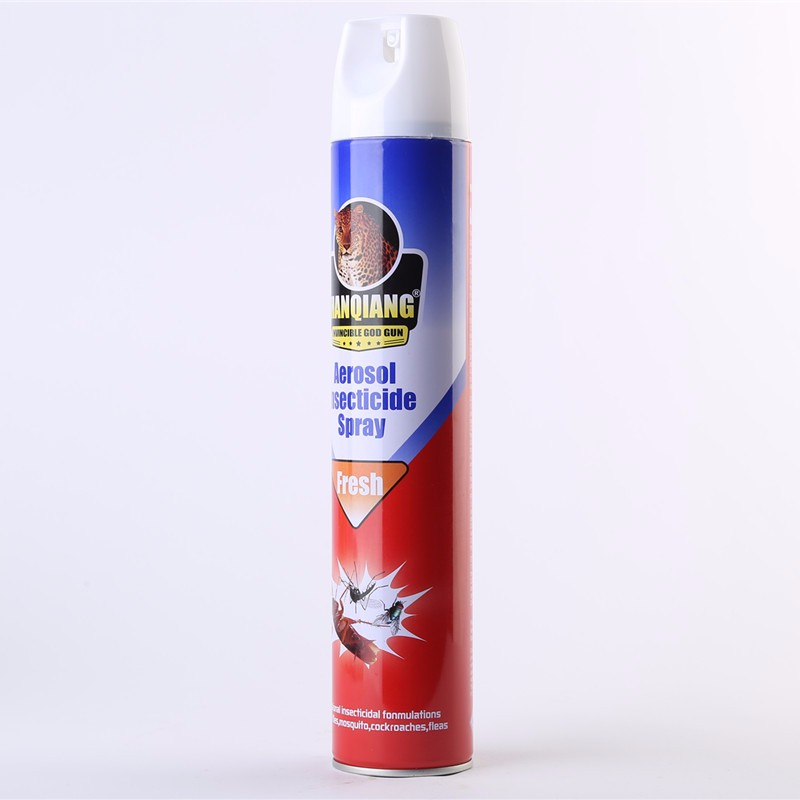Insecticide: (314, 1, 484, 788)
